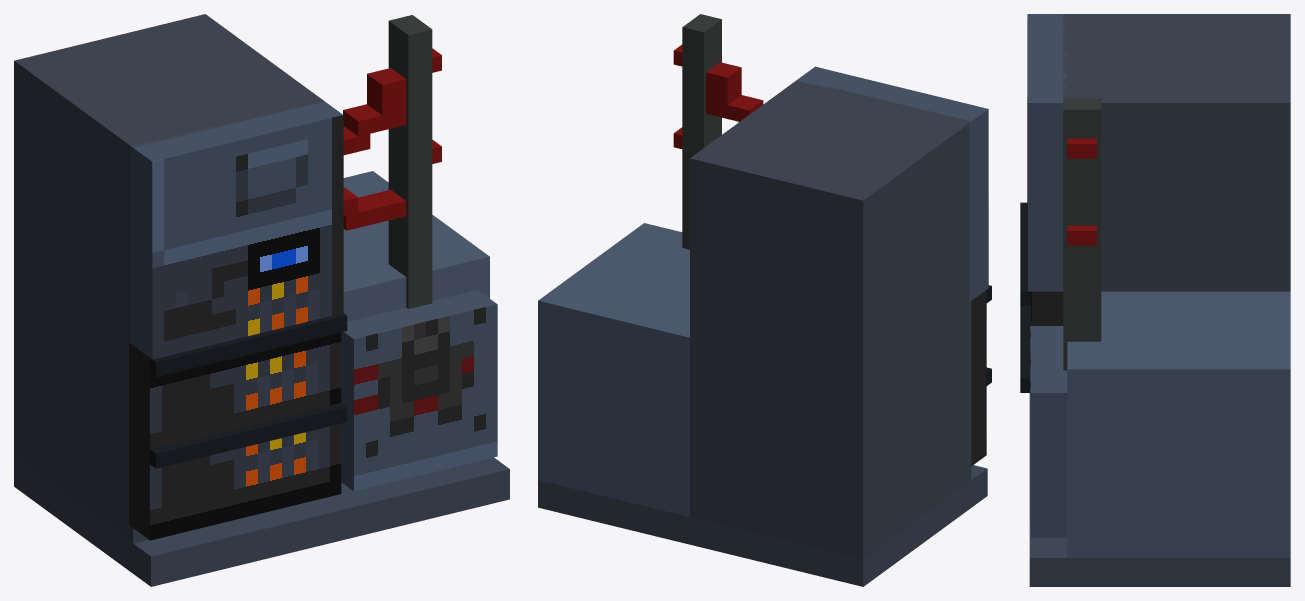
Rendered from CMU3DTelecomReceiverCloud.glb.
3 renders of one model, left to right at view 1: azimuth 30°, elevation 25°; view 2: azimuth 150°, elevation 25°; view 3: azimuth 270°, elevation 25°, orthographic. The views are drawn at different scales.
Parts seen in each view (by area): view 1: left receiver rack body, upper receiver control face original face, antenna base control cover original face, full width receiver base, separate rack module 2 original face, separate rack module 1 original face, black vertical antenna mast, right antenna support enclosure, upper receiver control face, antenna base control cover, black separating rack rail 2, separate rack module 2 (+4 smaller); view 2: left receiver rack body, right antenna support enclosure, full width receiver base, upper receiver control face, black vertical antenna mast, separate rack module 2, separate burgundy antenna branch 3, separate burgundy antenna branch 2; view 3: right antenna support enclosure, left receiver rack body, upper receiver control face, full width receiver base, black vertical antenna mast, antenna base control cover, separate rack module 2, black separating rack rail 2, black separating rack rail 1, separate burgundy antenna branch 6, separate burgundy antenna branch 7.
Part boxes in pixels (x1,y1,x2,y2): left receiver rack body: [14, 14, 324, 543]; upper receiver control face original face: [152, 115, 343, 359]; antenna base control cover original face: [353, 304, 497, 491]; full width receiver base: [14, 456, 509, 586]; separate rack module 2 original face: [149, 423, 341, 540]; separate rack module 1 original face: [149, 332, 341, 449]; black vertical antenna mast: [388, 15, 432, 308]; right antenna support enclosure: [341, 171, 489, 490]; upper receiver control face: [131, 101, 342, 358]; antenna base control cover: [341, 290, 496, 490]; black separating rack rail 2: [149, 402, 347, 468]; separate rack module 2: [129, 343, 149, 539]; left receiver rack body: [690, 80, 971, 559]; right antenna support enclosure: [538, 223, 689, 516]; full width receiver base: [538, 465, 987, 586]; upper receiver control face: [796, 67, 988, 301]; black vertical antenna mast: [682, 14, 721, 249]; separate rack module 2: [971, 290, 986, 466]; separate burgundy antenna branch 3: [706, 62, 741, 105]; separate burgundy antenna branch 2: [706, 95, 763, 121]; right antenna support enclosure: [1067, 291, 1290, 557]; left receiver rack body: [1063, 14, 1290, 291]; upper receiver control face: [1028, 14, 1067, 291]; full width receiver base: [1029, 393, 1290, 586]; black vertical antenna mast: [1063, 98, 1101, 370]; antenna base control cover: [1031, 326, 1067, 537]; separate rack module 2: [1032, 291, 1063, 325]; black separating rack rail 2: [1020, 306, 1031, 392]; black separating rack rail 1: [1020, 202, 1031, 305]; separate burgundy antenna branch 6: [1067, 138, 1096, 158]; separate burgundy antenna branch 7: [1067, 225, 1096, 245].
Bounding box in the file's own units: 0.9375 × 1.18 × 0.642.
13 materials, 4 textured.
